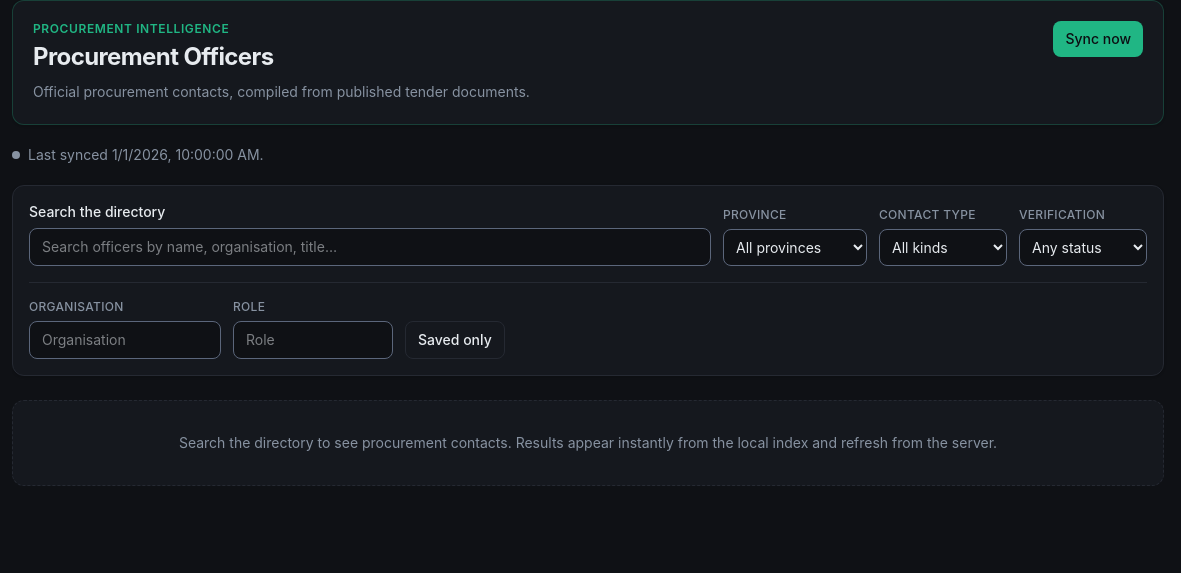
it: ProcurementOfficerDirectory shell › shows the offline banner with the last sync time when the refresh fails
The image size is (1181, 573).
Type "Mokoena" into the search field named "Search officers".
click(370, 247); type("Mokoena")  # box [29,228,711,266]
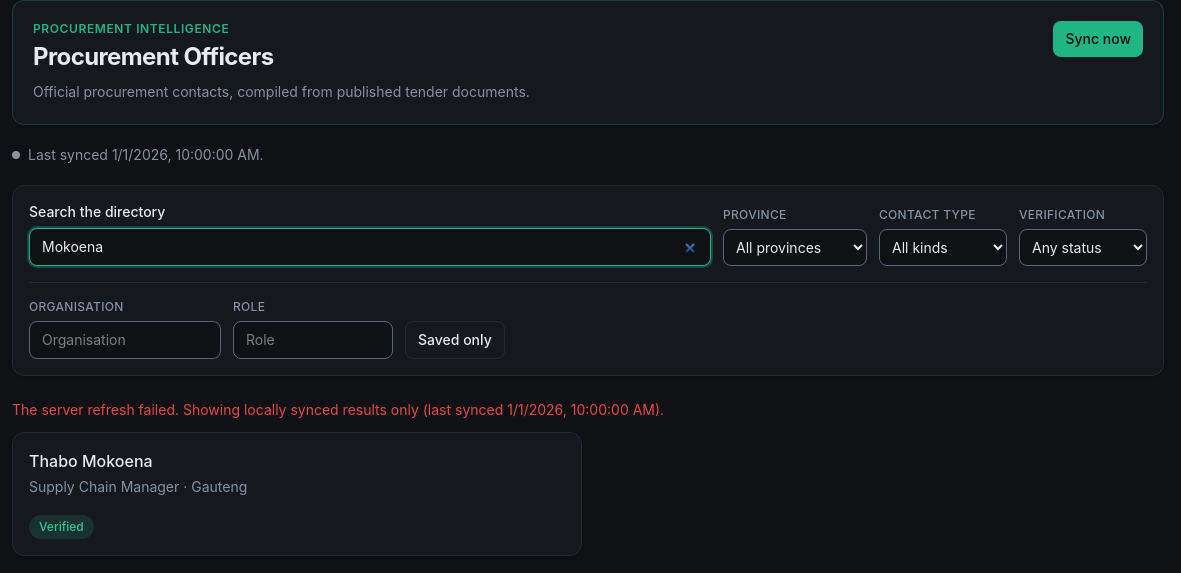
Check: the text "Showing locally synced results only" is shown, box [12,401,419,418]
Check: the text "last synced" is shown, box [419,401,664,418]
Check: the text "Thabo Mokoena" is shown, box [29,451,153,471]
